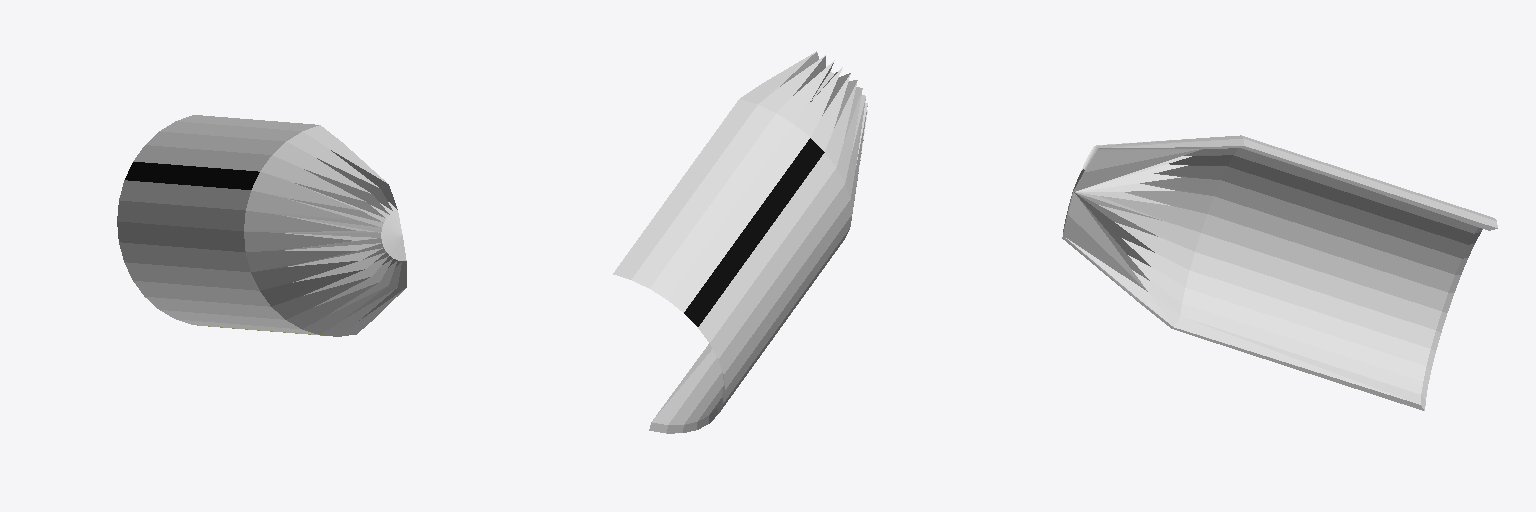
File: debris1.obj
3 renders of one model, left to right at view 1: azimuth 30°, elevation 25°; view 2: azimuth 150°, elevation 25°; view 3: azimuth 270°, elevation 25°, orthographic.
Parts seen in each view (by area): view 1: Cylinder.001_Cylinder.003; view 2: Cylinder.001_Cylinder.003; view 3: Cylinder.001_Cylinder.003.
Part boxes in pixels (x1,y1,x2,y2): Cylinder.001_Cylinder.003: (117,115,406,336); Cylinder.001_Cylinder.003: (613,51,867,433); Cylinder.001_Cylinder.003: (1062,135,1497,410).
Size of the model in its own units: 2.6 by 7.1 by 10.55.